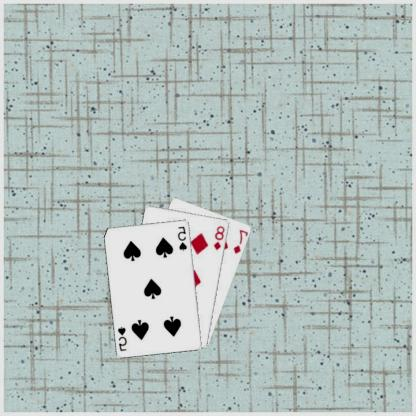5S: (117, 323, 130, 352), (177, 224, 190, 251)
7D: (233, 227, 250, 255)
8D: (213, 223, 228, 251)
